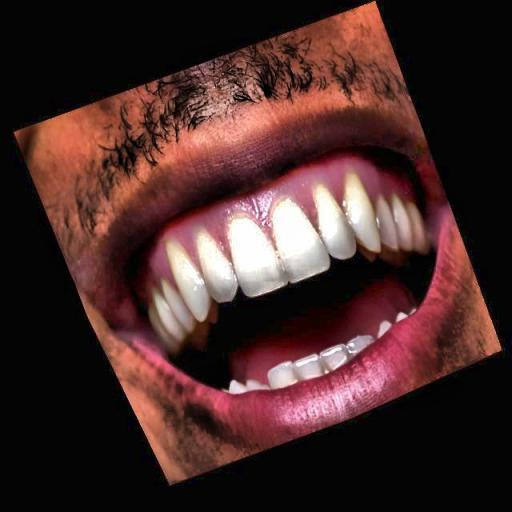Healthy: (38, 136, 494, 410)
